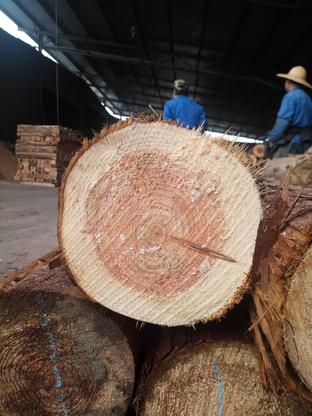mood: (59, 121, 265, 325)
